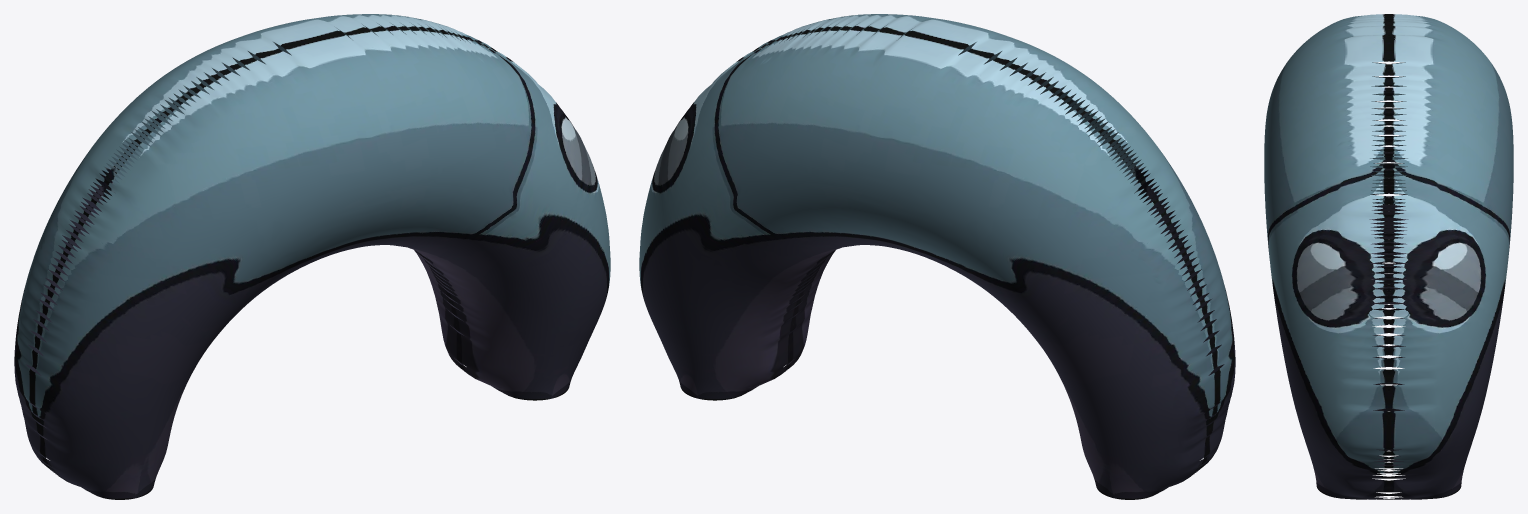
Rendered from plain_pipe_cuff.glb.
3 renders of one model, left to right at view 1: azimuth 30°, elevation 25°; view 2: azimuth 150°, elevation 25°; view 3: azimuth 270°, elevation 25°, orthographic. The views are drawn at different scales.
Visible parts, largest first — view 1: plain_pipe_cuff; view 2: plain_pipe_cuff; view 3: plain_pipe_cuff.
Part boxes in pixels (x1,y1,x2,y2): plain_pipe_cuff: (14,14,610,499); plain_pipe_cuff: (639,14,1235,499); plain_pipe_cuff: (1264,14,1513,499).
Bounding box in the file's own units: 0.989 × 0.6398 × 0.4156.
Materials: 1 (1 with a texture image).
